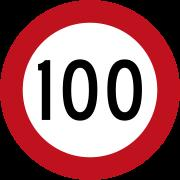Speed Limit -100-: (21, 38, 160, 150)
